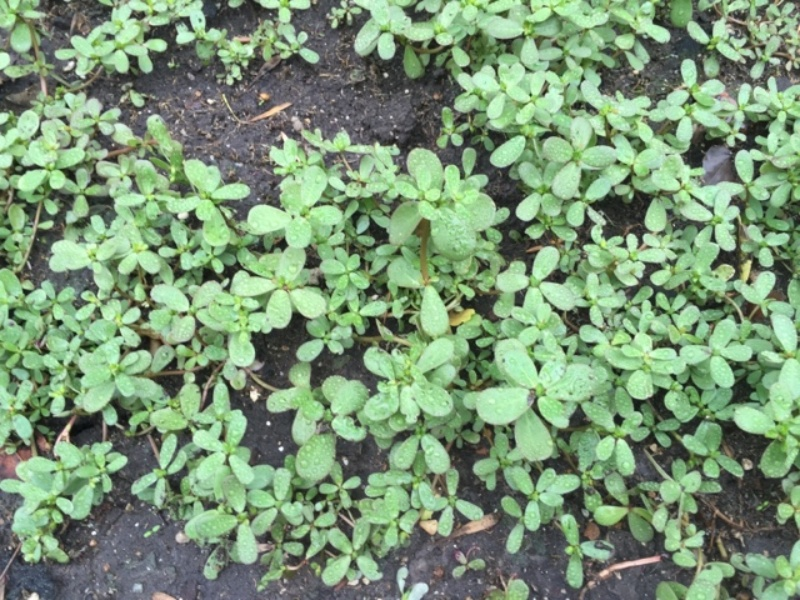weed: (379, 161, 484, 262), (480, 346, 598, 435), (366, 341, 455, 425), (20, 140, 100, 218), (243, 255, 320, 327), (256, 173, 333, 245), (538, 128, 614, 200), (652, 462, 725, 533), (81, 342, 163, 405), (175, 167, 245, 240), (48, 441, 123, 504), (103, 240, 175, 301), (679, 189, 745, 255), (316, 518, 384, 582), (196, 423, 258, 492), (417, 468, 482, 531), (512, 468, 579, 529), (489, 66, 553, 127), (317, 466, 368, 508)
